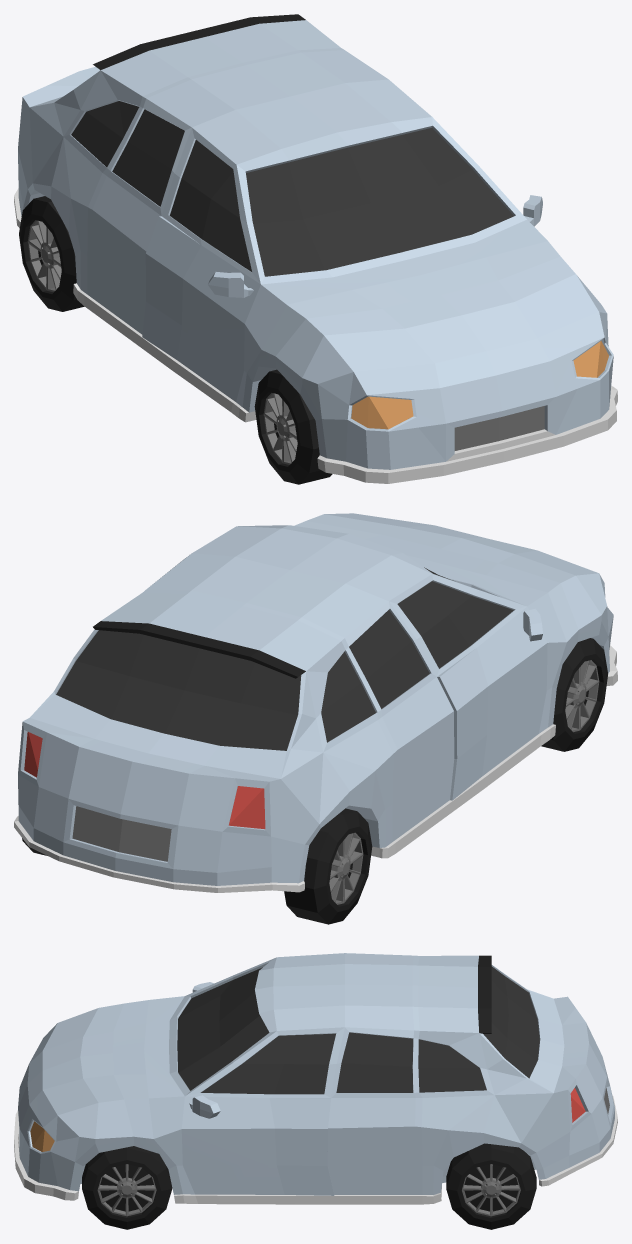
Rendered from q.normal_car2.glb.
3 renders of one model, top to bottom at view 1: azimuth 30°, elevation 25°; view 2: azimuth 150°, elevation 25°; view 3: azimuth 270°, elevation 25°, orthographic. The views are drawn at different scales.
Visible parts, largest first — view 1: NormalCar2, NormalCar2_FrontRightWheel, NormalCar2_BackWheels; view 2: NormalCar2, NormalCar2_BackWheels, NormalCar2_FrontRightWheel; view 3: NormalCar2, NormalCar2_BackWheels, NormalCar2_FrontLeftWheel.
Part boxes in pixels (bbox=[...]): NormalCar2: bbox=[14, 14, 617, 483]; NormalCar2_FrontRightWheel: bbox=[254, 369, 332, 484]; NormalCar2_BackWheels: bbox=[19, 196, 84, 311]; NormalCar2: bbox=[14, 513, 617, 892]; NormalCar2_BackWheels: bbox=[22, 808, 372, 924]; NormalCar2_FrontRightWheel: bbox=[541, 638, 607, 751]; NormalCar2: bbox=[14, 953, 617, 1204]; NormalCar2_BackWheels: bbox=[446, 1143, 536, 1229]; NormalCar2_FrontLeftWheel: bbox=[82, 1146, 172, 1229].
Size of the model in its own units: 1.64 by 1.15 by 3.31.
